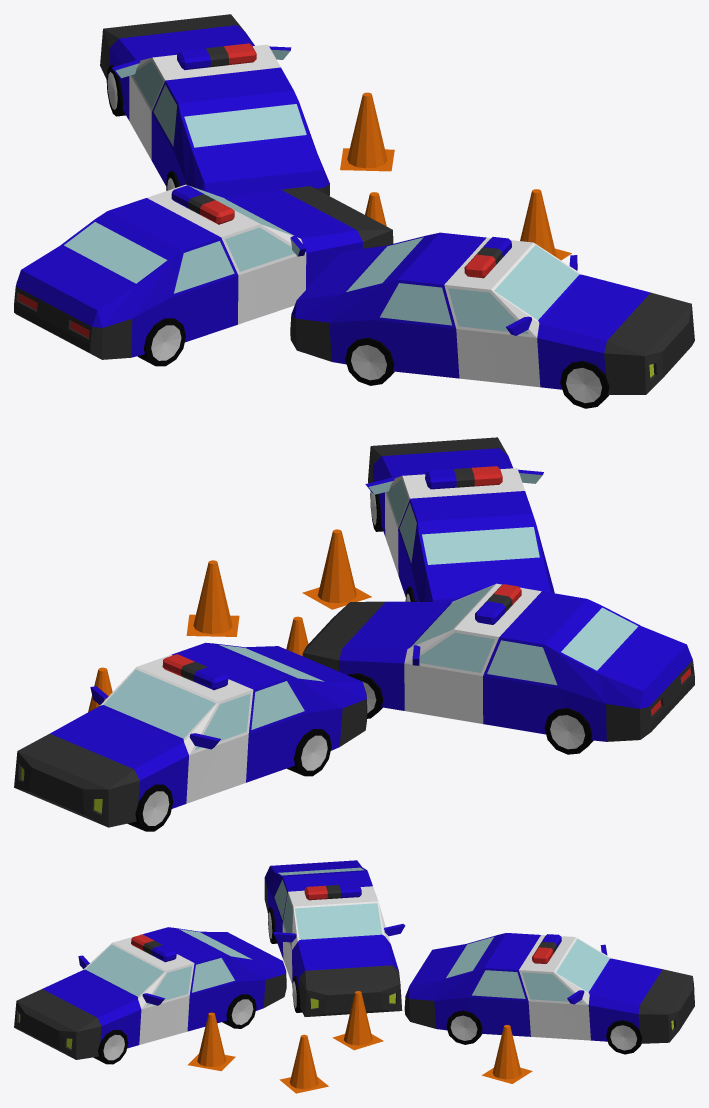
File: BarreiraPulissa.fbx
The picture shows the model from 3 angles, top to bottom: view 1: azimuth 30°, elevation 25°; view 2: azimuth 150°, elevation 25°; view 3: azimuth 270°, elevation 25°; orthographic projection. The views are drawn at different scales.
Parts seen in each view (by area): view 1: BarreiraPulissa; view 2: BarreiraPulissa; view 3: BarreiraPulissa.
Part boxes in pixels (x1,y1,x2,y2): BarreiraPulissa: [14, 14, 694, 408]; BarreiraPulissa: [14, 437, 694, 831]; BarreiraPulissa: [14, 860, 694, 1093].
Size of the model in its own units: 1051 by 661 by 148.
